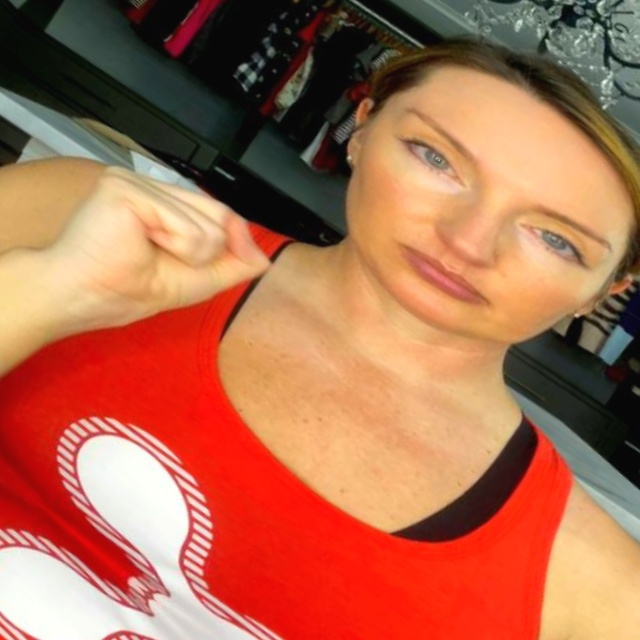Rock: (24, 114, 299, 384)
